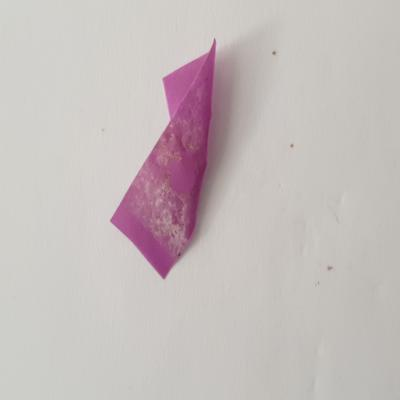plastic: (107, 36, 228, 283)
